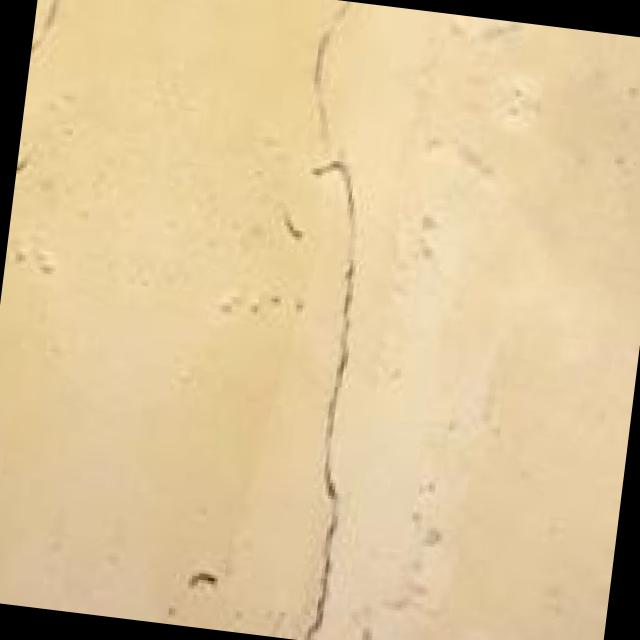crack: (183, 6, 468, 640)
